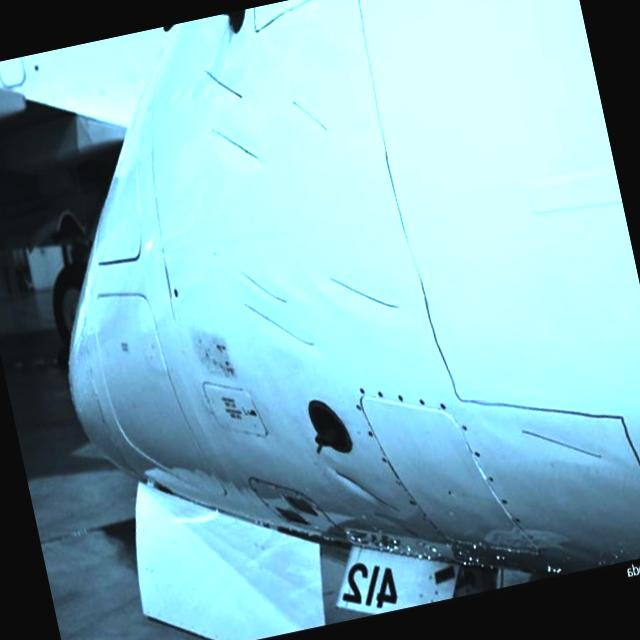dent: (206, 114, 276, 181)
